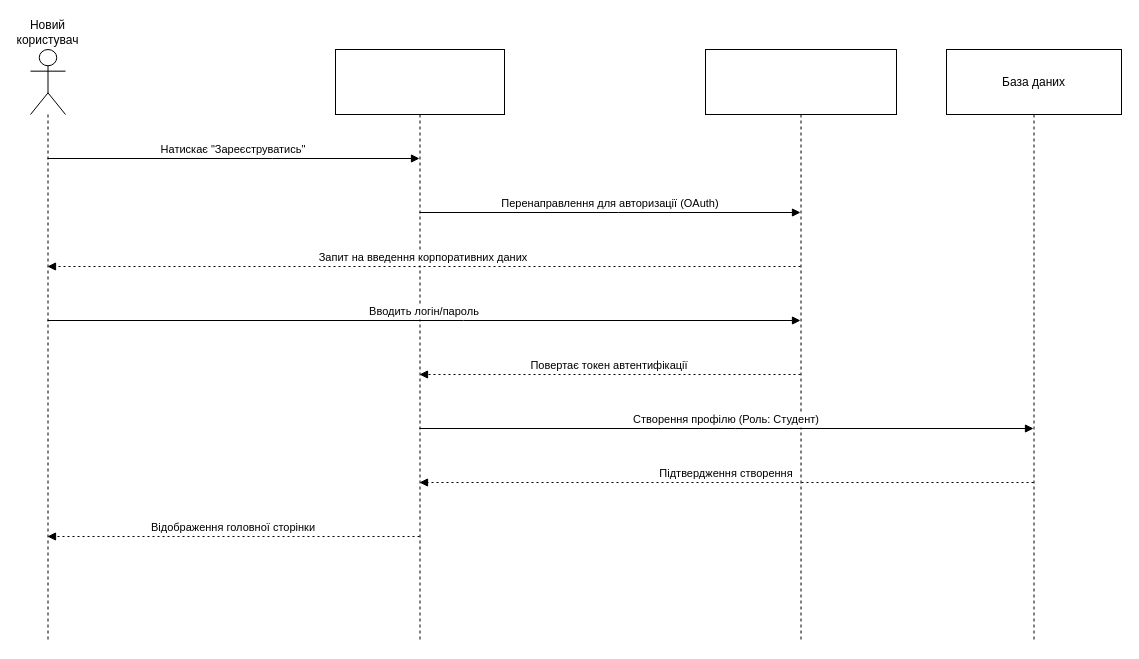
The diagram is 1139 pixels wide and 659 high, and some of its shapes have lost their labels. Each missing label, with the box of its shape:
Microsoft OAuth Service: (704, 48, 896, 642)
StudyHub (Web App): (334, 48, 504, 642)
